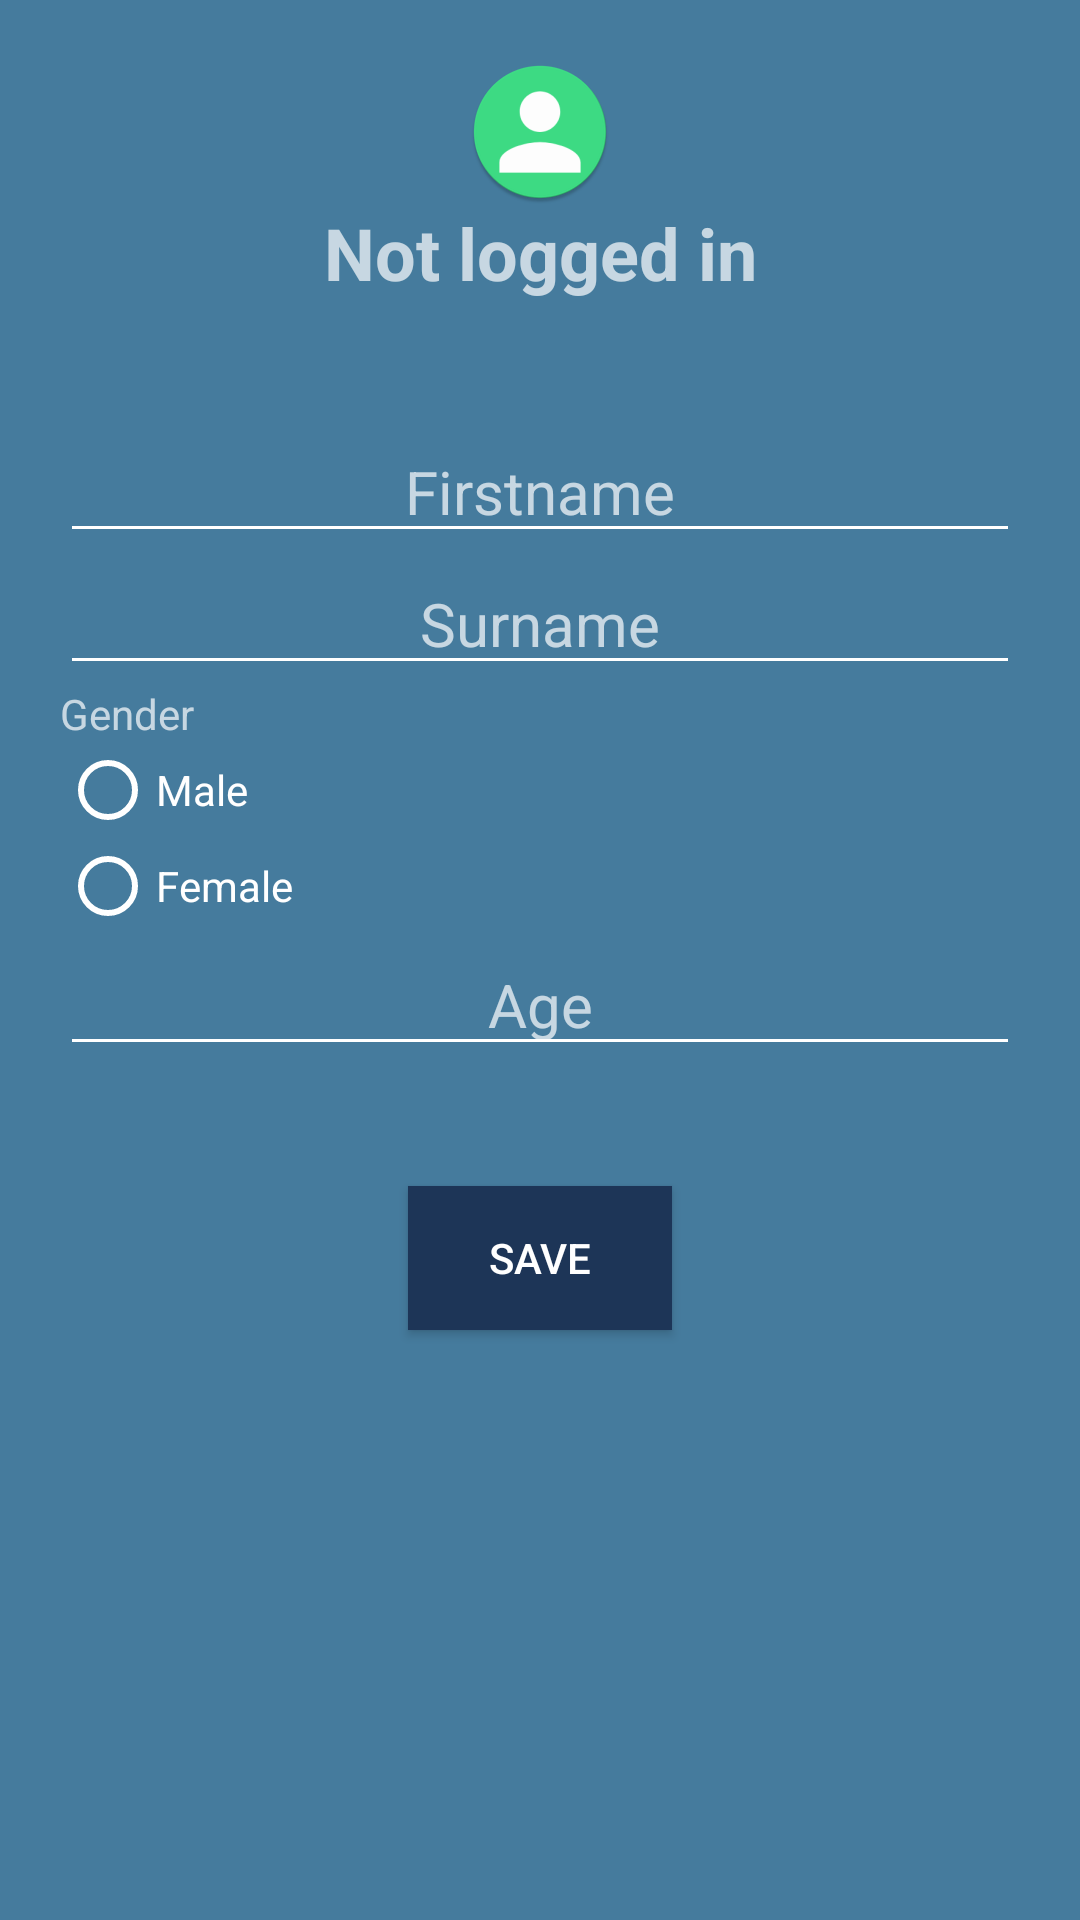

Icon bounding boxes for this 1080x1920 phone screenshot, format detection(x1, y1, x2, y2):
Profile Picture: detection(474, 66, 606, 201)
